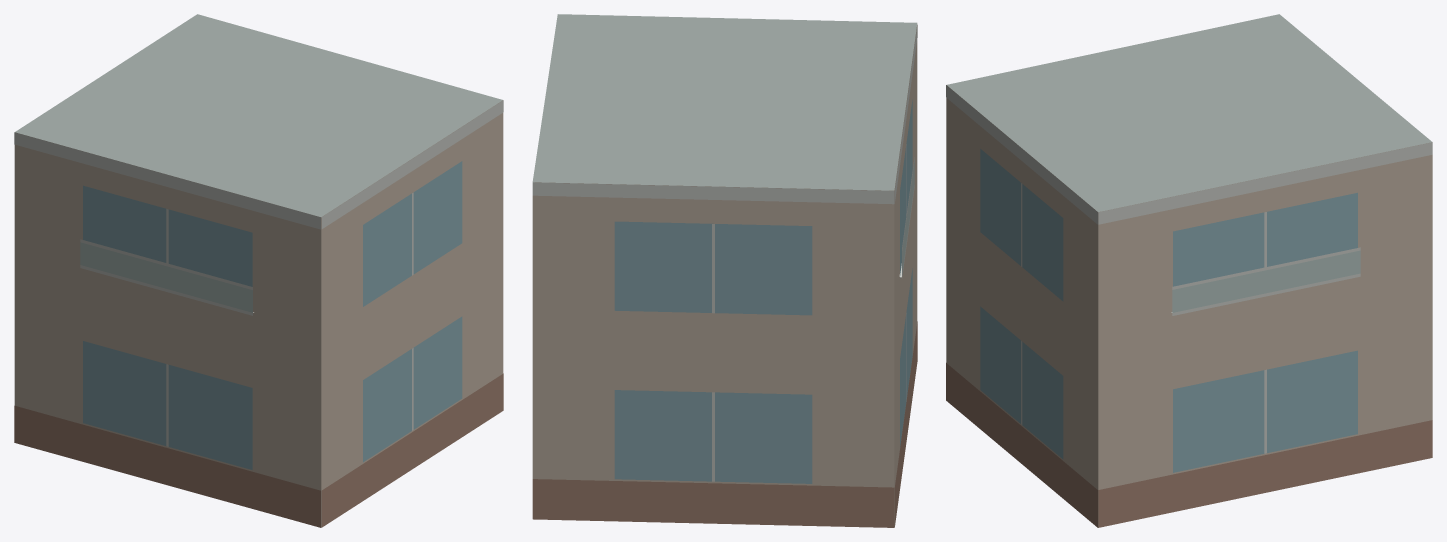
Rendered from survey-upis-32956284.glb.
3 views of the same model, side by side, from view 1: azimuth 30°, elevation 25°; view 2: azimuth 150°, elevation 25°; view 3: azimuth 270°, elevation 25° (orthographic). The views are drawn at different scales.
Visible parts, largest first — view 1: survey-upis-32956284.tmp; view 2: survey-upis-32956284.tmp; view 3: survey-upis-32956284.tmp.
Boxes of the visible parts, x1,y1,x2,y2 form: survey-upis-32956284.tmp: [14, 14, 503, 527]; survey-upis-32956284.tmp: [532, 14, 917, 527]; survey-upis-32956284.tmp: [946, 14, 1432, 527].
Bounding box in the file's own units: 8.22 × 6.1 × 8.53.
